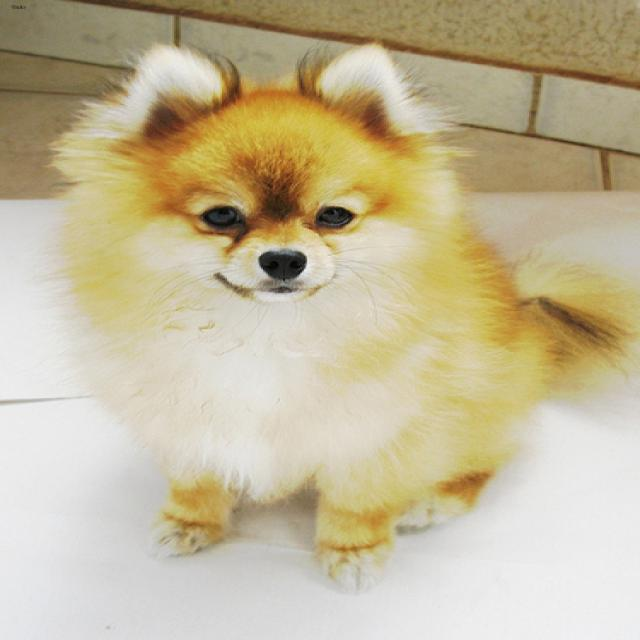dog-pomeranian: (38, 24, 637, 607)
